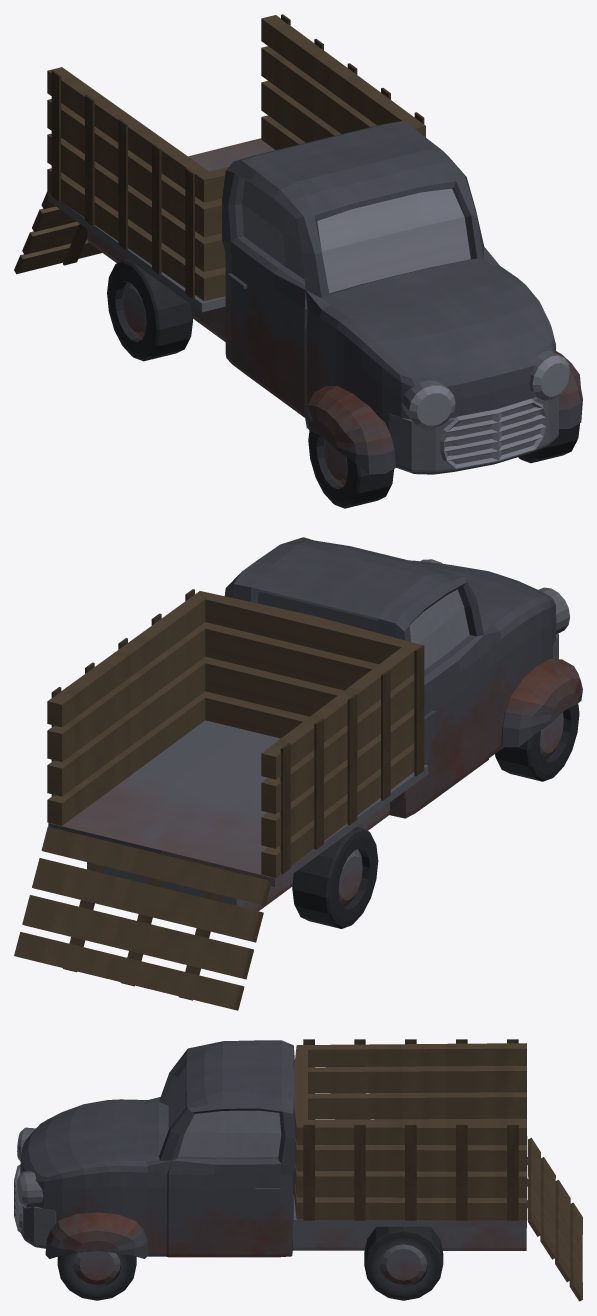
Rendered from Truck.fbx.
3 views of the same model, one above another, from view 1: azimuth 30°, elevation 25°; view 2: azimuth 150°, elevation 25°; view 3: azimuth 270°, elevation 25° (orthographic). The views are drawn at different scales.
Parts seen in each view (by area): view 1: truck; view 2: truck; view 3: truck.
Boxes of the visible parts, x1=… form: truck: x1=14, y1=14, x2=582, y2=508; truck: x1=14, y1=537, x2=582, y2=1010; truck: x1=14, y1=1039, x2=582, y2=1301.
Bounding box in the file's own units: 419 × 420 × 1117.
